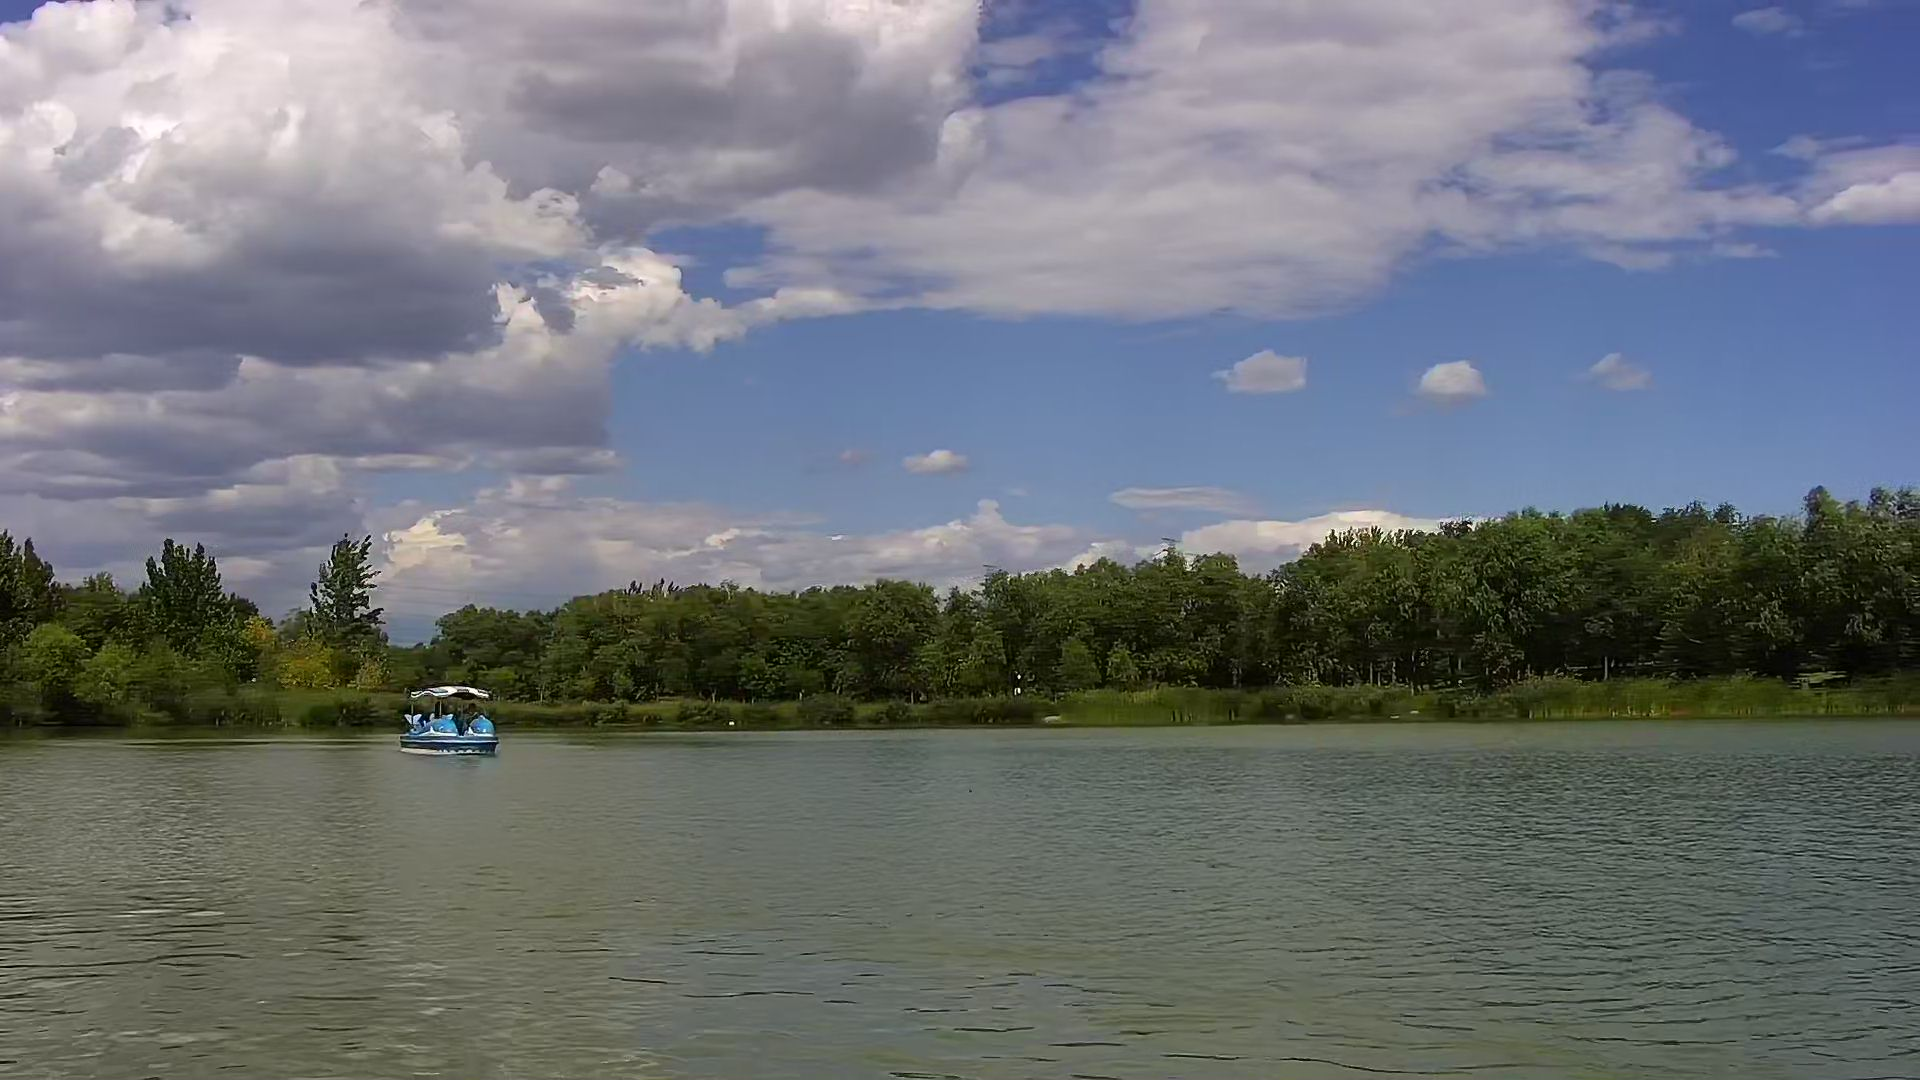boat: (400, 679, 496, 764)
